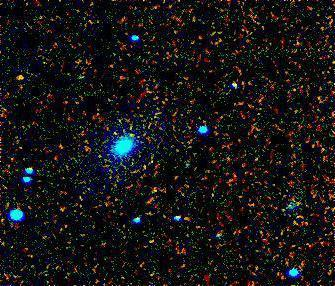star: (1, 63, 31, 93)
